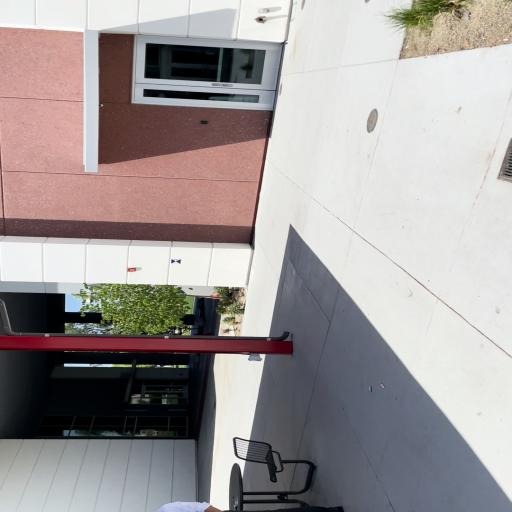target2: (171, 258, 181, 264)
